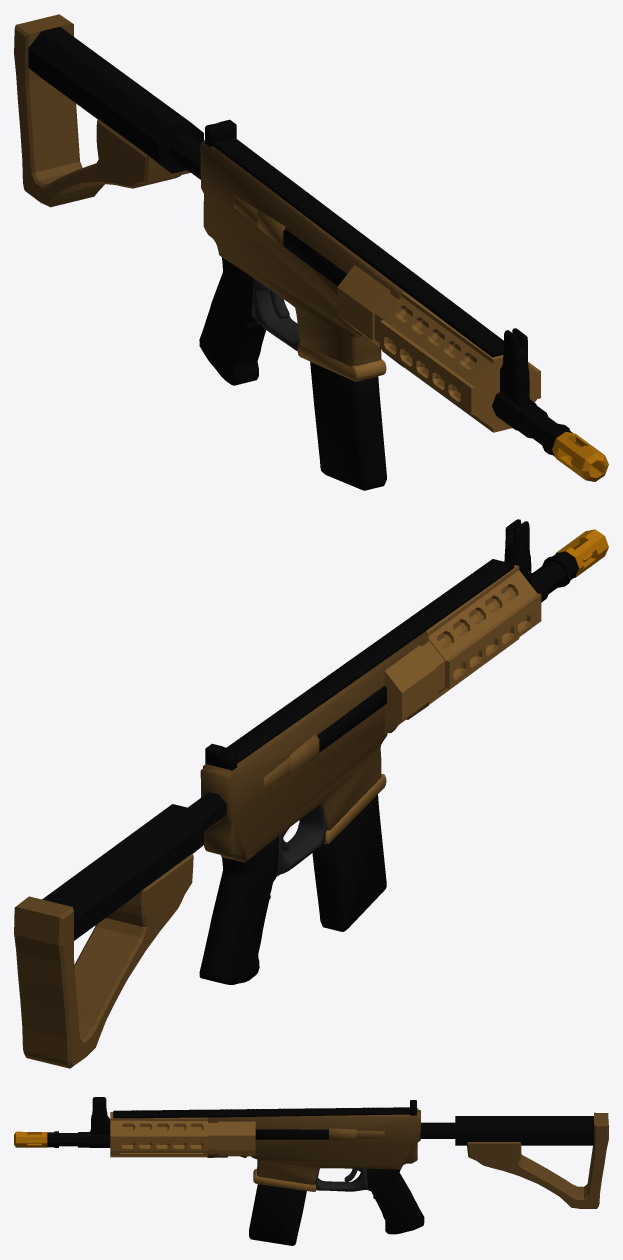
File: GunMini1.glb
3 views of the same model, one above another, from view 1: azimuth 30°, elevation 25°; view 2: azimuth 150°, elevation 25°; view 3: azimuth 270°, elevation 25° (orthographic). The views are drawn at different scales.
Parts seen in each view (by area): view 1: Plane, Plane.007, Cylinder.006, Cylinder.002, Plane.001, Cube, Plane.003, Cylinder.003, Cylinder, Plane.002, Cylinder.001, Plane.004 (+4 smaller); view 2: Plane.007, Plane, Cylinder.006, Cylinder.002, Plane.003, Cube, Plane.001, Cylinder.003, Plane.004, Cylinder, Cylinder.007, Plane.002 (+4 smaller); view 3: Plane, Plane.007, Cylinder.002, Cylinder.006, Plane.001, Cube, Plane.003, Cylinder.003, Cylinder, Cylinder.007, Plane.004, Plane.002 (+4 smaller).
Boxes of the visible parts, left/top/right/bottom form: Plane: left=200, top=140, right=405, bottom=367; Plane.007: left=14, top=14, right=190, bottom=207; Cylinder.006: left=28, top=27, right=203, bottom=173; Cylinder.002: left=379, top=292, right=540, bottom=432; Plane.001: left=310, top=361, right=386, bottom=490; Cube: left=213, top=137, right=503, bottom=357; Plane.003: left=199, top=257, right=266, bottom=385; Cylinder.003: left=337, top=265, right=399, bottom=346; Cylinder: left=492, top=392, right=572, bottom=456; Plane.002: left=500, top=328, right=529, bottom=405; Cylinder.001: left=552, top=432, right=608, bottom=481; Plane.004: left=251, top=278, right=299, bottom=350; Plane.007: left=14, top=853, right=193, bottom=1068; Plane: left=200, top=631, right=428, bottom=862; Cylinder.006: left=42, top=804, right=204, bottom=940; Cylinder.002: left=426, top=565, right=541, bottom=704; Plane.003: left=199, top=836, right=278, bottom=984; Cube: left=227, top=559, right=514, bottom=763; Plane.001: left=312, top=794, right=386, bottom=931; Cylinder.003: left=384, top=640, right=444, bottom=734; Plane.004: left=277, top=804, right=326, bottom=876; Cylinder: left=531, top=551, right=578, bottom=602; Cylinder.007: left=317, top=685, right=386, bottom=752; Plane.002: left=504, top=519, right=531, bottom=585; Plane: left=207, top=1108, right=420, bottom=1184; Plane.007: left=466, top=1112, right=608, bottom=1208; Cylinder.002: left=110, top=1112, right=207, bottom=1157; Cylinder.006: left=455, top=1116, right=593, bottom=1145; Plane.001: left=249, top=1184, right=306, bottom=1245; Cube: left=113, top=1107, right=409, bottom=1118; Plane.003: left=366, top=1168, right=424, bottom=1234; Cylinder.003: left=208, top=1121, right=255, bottom=1156; Cylinder: left=47, top=1131, right=110, bottom=1147; Cylinder.007: left=255, top=1129, right=328, bottom=1139; Plane.004: left=315, top=1168, right=368, bottom=1191; Plane.002: left=90, top=1097, right=110, bottom=1134.
Size of the model in its own units: 0.0995 by 0.3727 by 1.39.
